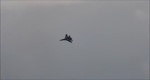maybay_muctieu: (59, 33, 74, 44)
